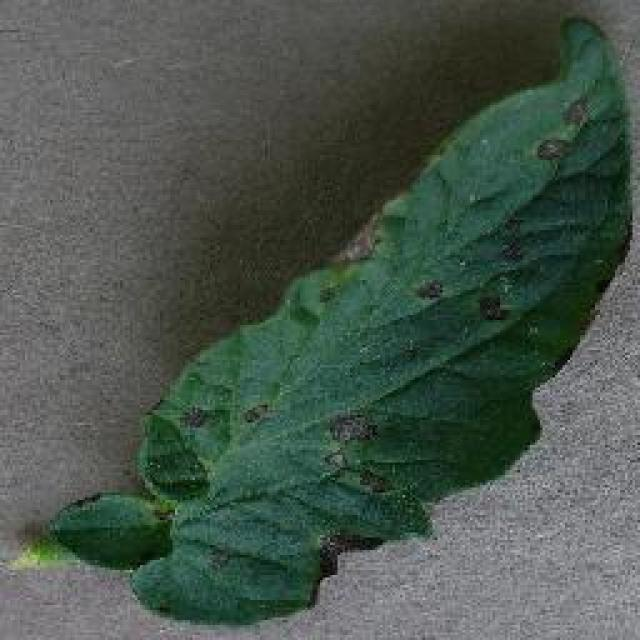Tomato_Early_Blight: (226, 104, 561, 485)
